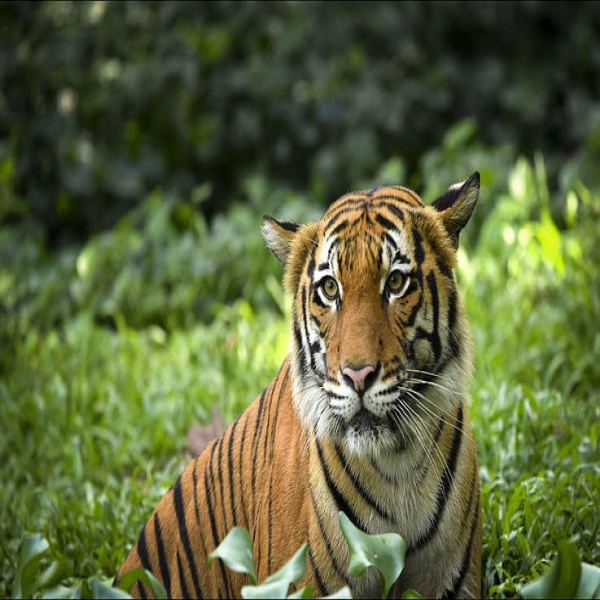Tiger: (114, 164, 488, 593)
